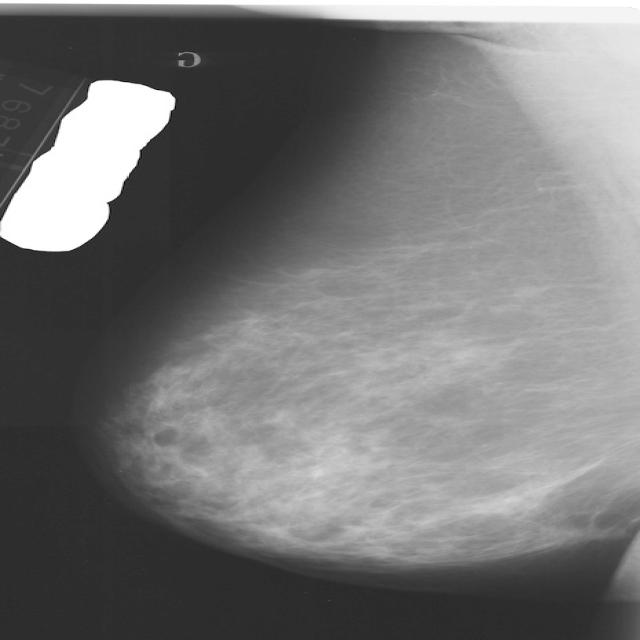tumour: (475, 522, 612, 560)
